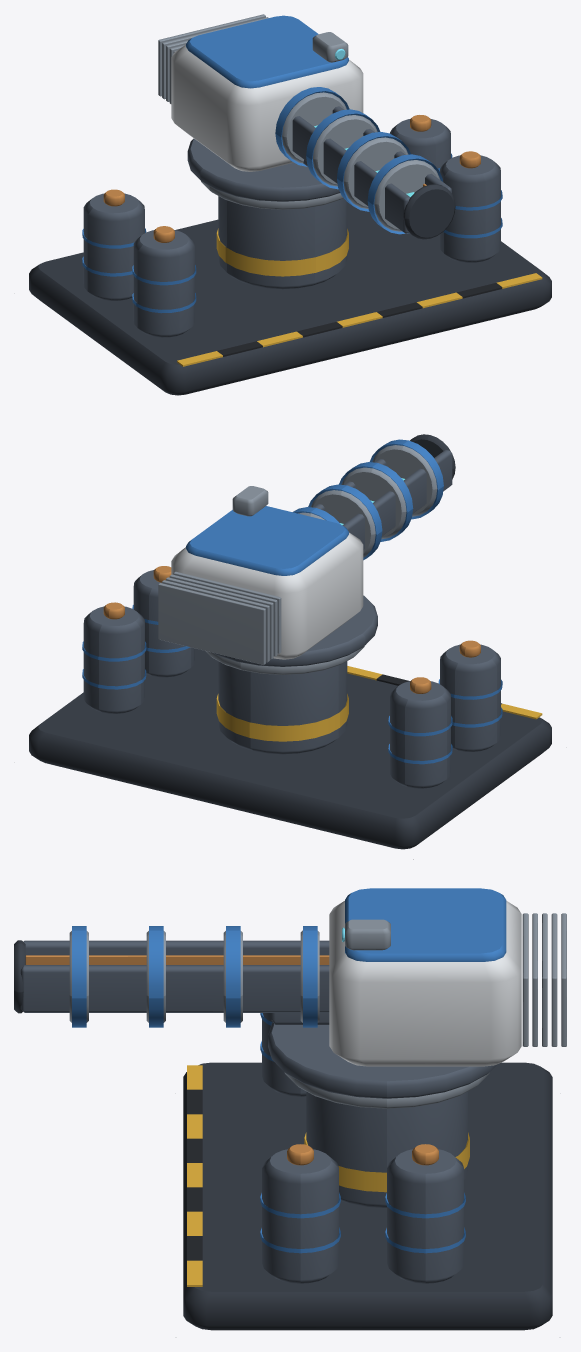
Rendered from tourelle_rail.glb.
3 views of the same model, one above another, from view 1: azimuth 30°, elevation 25°; view 2: azimuth 150°, elevation 25°; view 3: azimuth 270°, elevation 25° (orthographic). The views are drawn at different scales.
Parts seen in each view (by area): view 1: pieces_av_fonce.002, pieces_av_sombre.002, tourelle_av_blanc.002, tourelle_av_bleu.002, tourelle_av_gris.002, tourelle_av_sombre.002, pieces_av_jaune.002, tourelle_av_fonce.002, pieces_av_bleu.002, pieces_av_cable.002, pieces_av_cuivre.002, pieces_av_gris.002; view 2: pieces_av_fonce.002, pieces_av_sombre.002, tourelle_av_gris.002, tourelle_av_bleu.002, tourelle_av_blanc.002, tourelle_av_sombre.002, pieces_av_jaune.002, pieces_av_bleu.002, pieces_av_cuivre.002, pieces_av_gris.002, tourelle_av_fonce.002; view 3: pieces_av_fonce.002, pieces_av_sombre.002, tourelle_av_sombre.002, tourelle_av_blanc.002, tourelle_av_bleu.002, tourelle_av_gris.002, pieces_av_jaune.002, tourelle_av_cuivre.002, pieces_av_gris.002, pieces_av_bleu.002, pieces_av_cable.002, pieces_av_cuivre.002 (+1 smaller).
Boxes of the visible parts, <box> form: pieces_av_fonce.002: <box>29,202,551,395</box>; pieces_av_sombre.002: <box>83,118,500,337</box>; tourelle_av_blanc.002: <box>171,45,363,171</box>; tourelle_av_bleu.002: <box>186,15,442,234</box>; tourelle_av_gris.002: <box>158,14,440,231</box>; tourelle_av_sombre.002: <box>187,106,452,233</box>; pieces_av_jaune.002: <box>177,228,542,366</box>; tourelle_av_fonce.002: <box>403,184,455,239</box>; pieces_av_bleu.002: <box>82,153,502,313</box>; pieces_av_cable.002: <box>217,283,502,356</box>; pieces_av_cuivre.002: <box>103,115,480,242</box>; pieces_av_gris.002: <box>201,181,343,209</box>; pieces_av_fonce.002: <box>29,648,551,849</box>; pieces_av_sombre.002: <box>83,570,500,788</box>; tourelle_av_gris.002: <box>158,445,437,664</box>; tourelle_av_bleu.002: <box>186,439,443,575</box>; tourelle_av_blanc.002: <box>171,532,363,659</box>; tourelle_av_sombre.002: <box>213,450,452,666</box>; pieces_av_jaune.002: <box>216,666,542,741</box>; pieces_av_bleu.002: <box>82,605,502,764</box>; pieces_av_cuivre.002: <box>103,566,480,693</box>; pieces_av_gris.002: <box>205,646,364,674</box>; tourelle_av_fonce.002: <box>410,434,455,479</box>; pieces_av_fonce.002: <box>183,1062,552,1330</box>; pieces_av_sombre.002: <box>262,1013,467,1283</box>; tourelle_av_sombre.002: <box>20,940,496,1098</box>; tourelle_av_blanc.002: <box>329,901,521,1066</box>; tourelle_av_bleu.002: <box>72,888,506,1027</box>; tourelle_av_gris.002: <box>69,913,566,1046</box>; pieces_av_jaune.002: <box>187,1065,469,1286</box>; tourelle_av_cuivre.002: <box>25,955,329,964</box>; pieces_av_gris.002: <box>284,1072,489,1108</box>; pieces_av_bleu.002: <box>260,1013,465,1253</box>; pieces_av_cable.002: <box>187,1089,202,1260</box>; pieces_av_cuivre.002: <box>287,1144,438,1165</box>.
Size of the model in its own units: 1.5 by 0.905 by 1.44.
